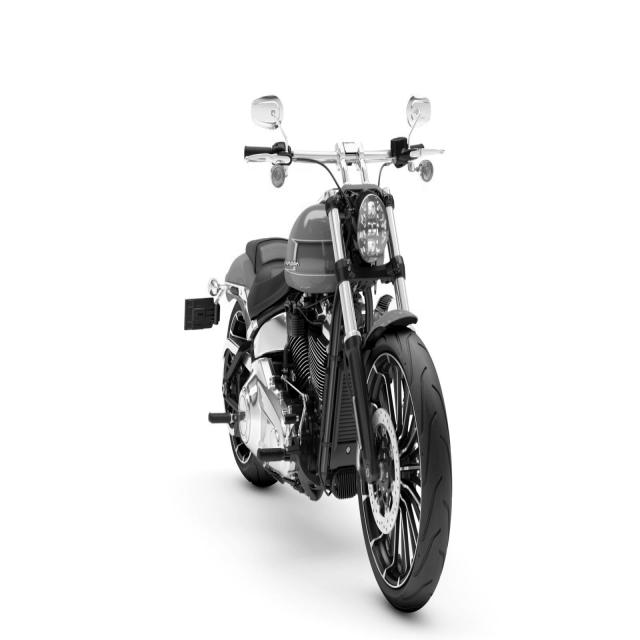Motorcycle: (184, 136, 452, 612)
